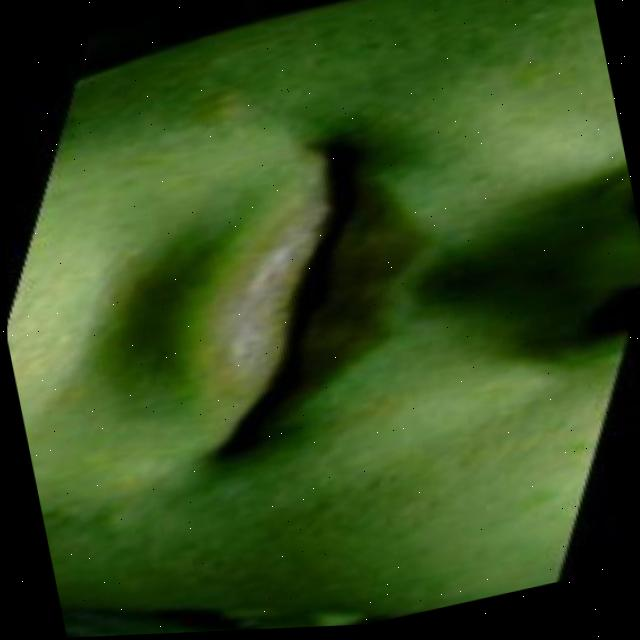Acne: (62, 472, 157, 569)
